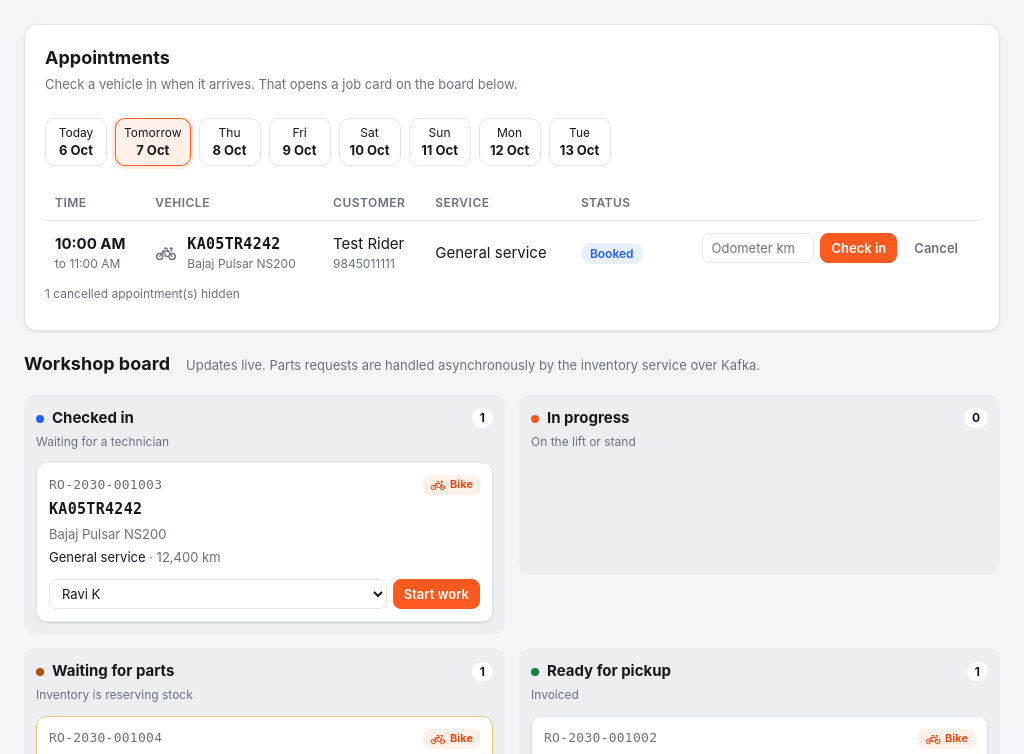
Test: WorkshopPage › shows an action error from the server
Expected: the text "RO-2030-001003" is shown, 49,476 -> 162,494
Click the button "Start work" at [436, 594], box 393,578 -> 480,609
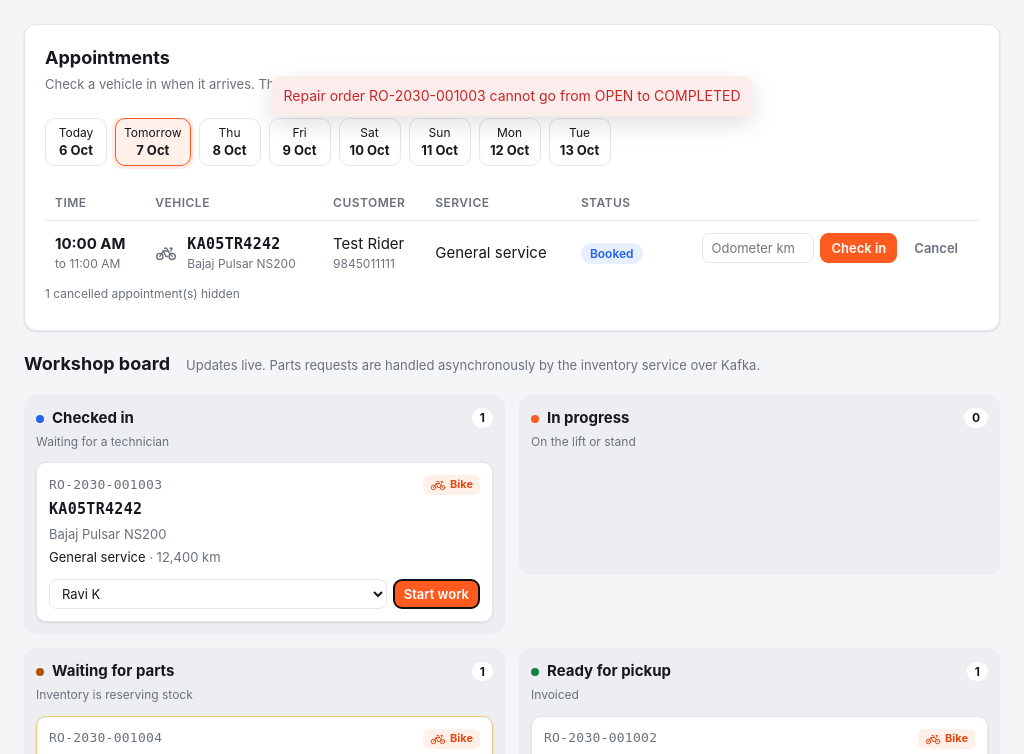
Expected: the text "Repair order RO-2030-001003 cannot go from OPEN to COMPLETED" is shown, 272,76 -> 752,116
